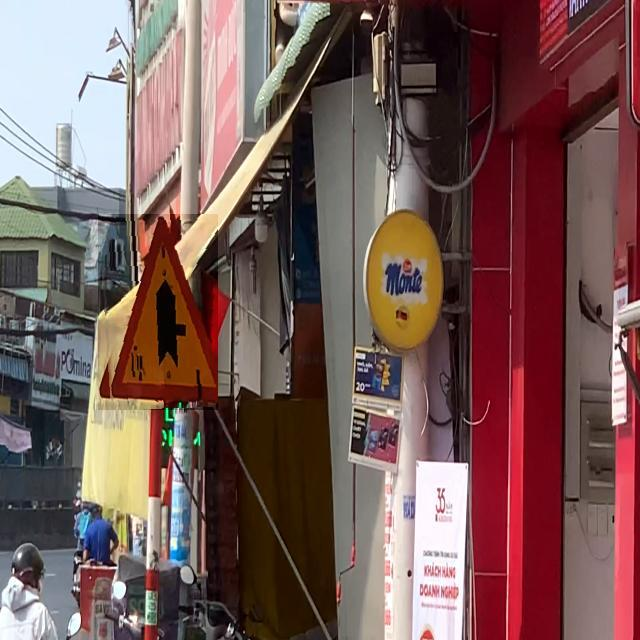W-207b: (98, 214, 218, 410)
